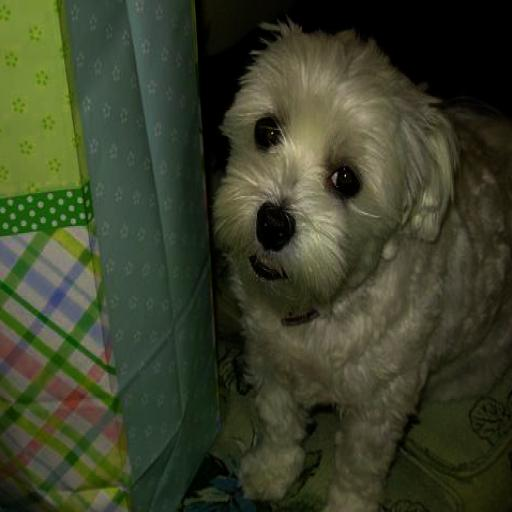dog_face: (215, 29, 447, 314)
